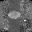people: (8, 10, 21, 20)
